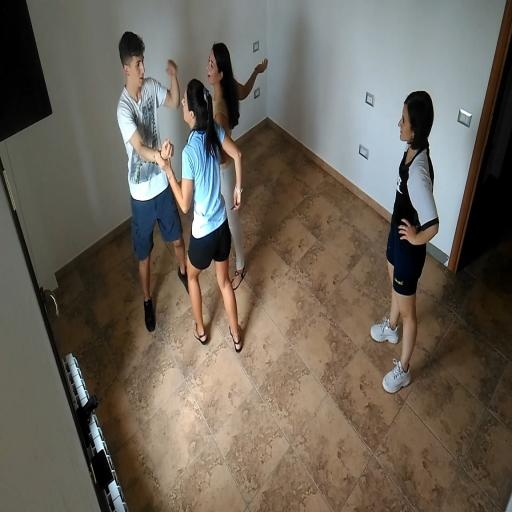violencia: (94, 13, 273, 361)
